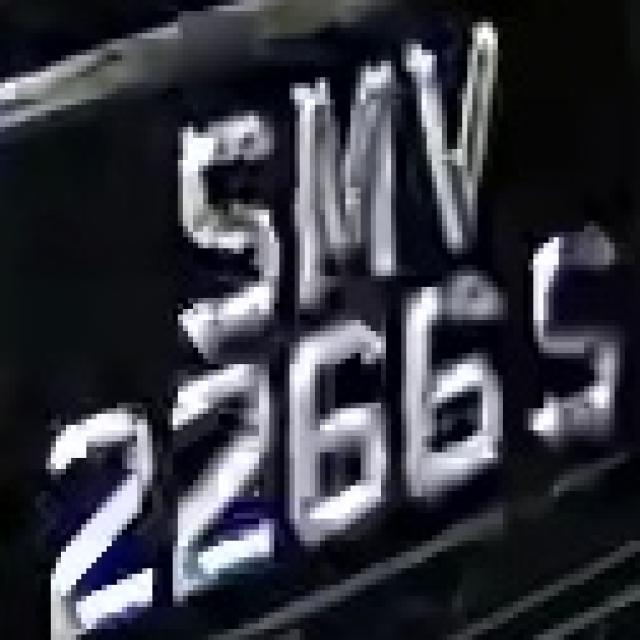2: (143, 336, 274, 607), (46, 381, 157, 629)
6: (406, 248, 524, 519), (264, 331, 401, 535)
M: (285, 49, 396, 304)
S: (148, 94, 290, 331), (518, 226, 620, 464)
V: (402, 27, 528, 276)
